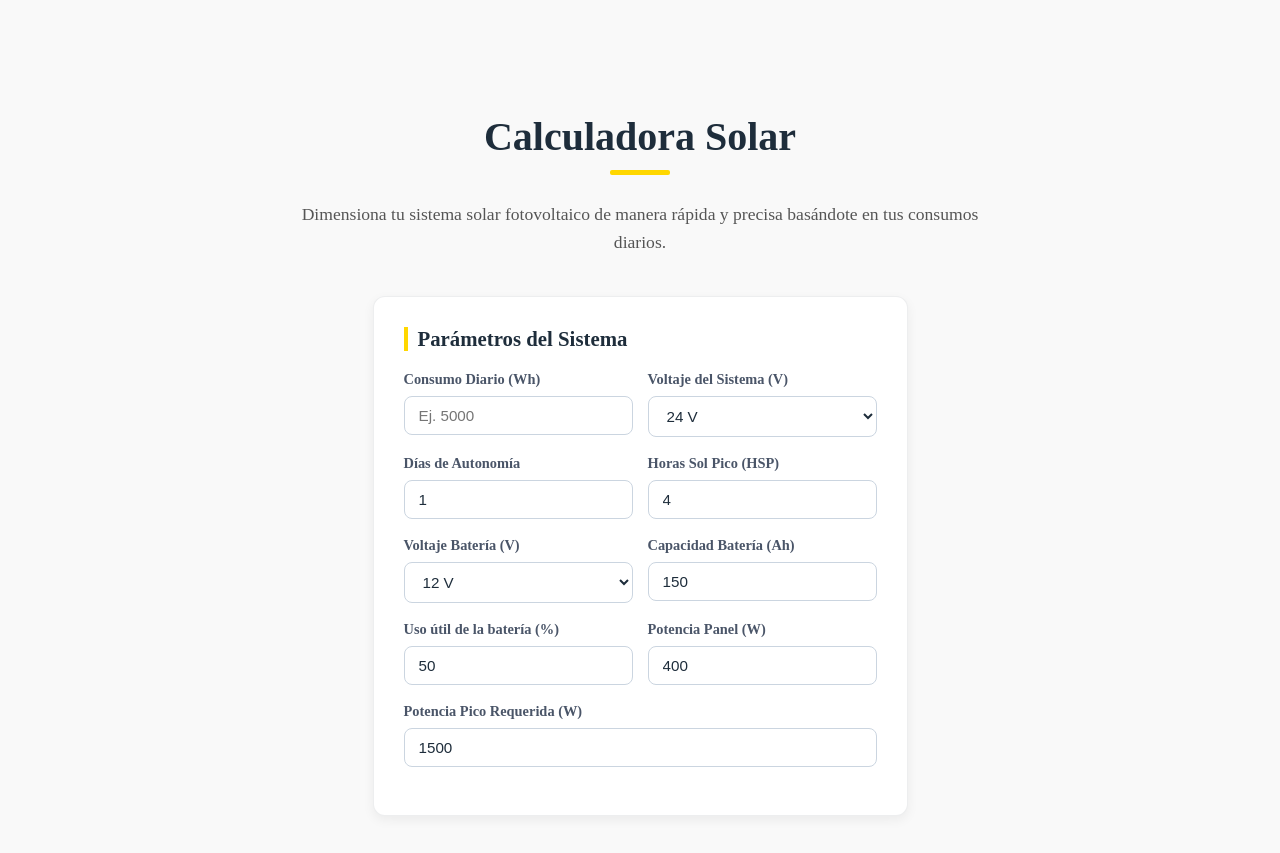
CalculadoraSolar › exige valores mayores a cero antes de calcular
In the number field with placeholder "Ej. 5000": (518, 416) x1=404 y1=396 x2=632 y2=436, type "0"
(page scrolled)
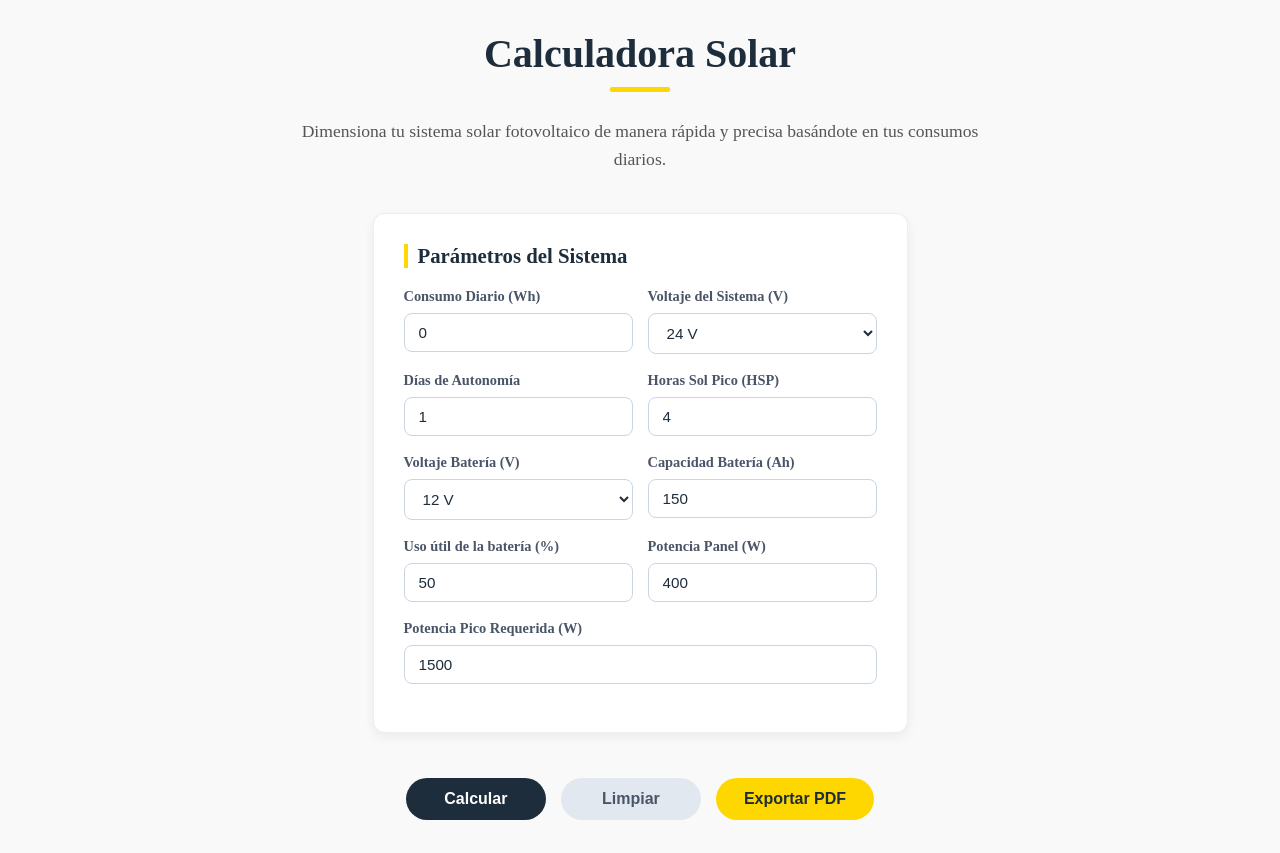
Submit the form, box x1=372 y1=214 x2=908 y2=820
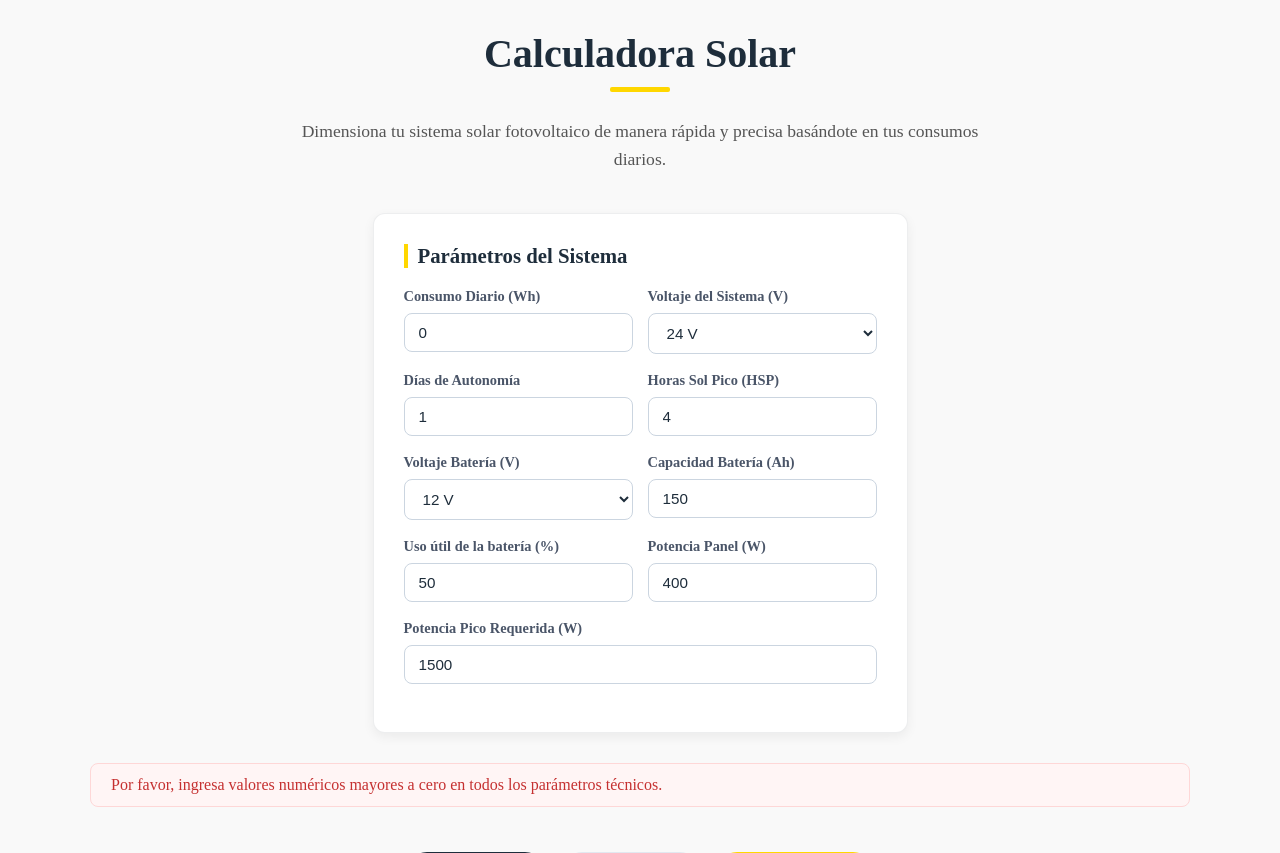
Now the text "valores numéricos mayores a cero" is shown, box x1=111 y1=776 x2=662 y2=794
